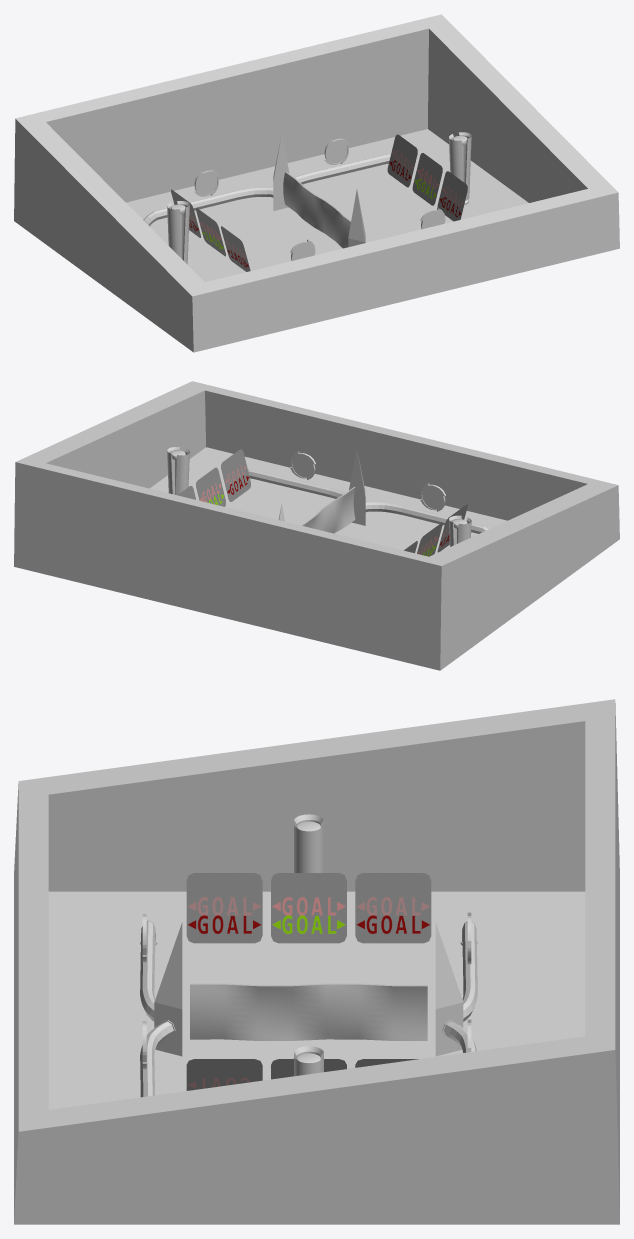
File: teleport_level_combined.fbx
3 renders of one model, top to bottom at view 1: azimuth 30°, elevation 25°; view 2: azimuth 150°, elevation 25°; view 3: azimuth 270°, elevation 25°, orthographic. The views are drawn at different scales.
Parts seen in each view (by area): view 1: teleport_walls, teleport_floor, teleport_net, teleport_power_cable, teleport_goal_screen, teleport_goal_screen001, teleport_generator_shell001, teleport_goal_screen002, teleport_generator_shell, teleport_goal_screen004, teleport_goal_screen003, teleport_warp (+1 smaller); view 2: teleport_walls, teleport_floor, teleport_power_cable, teleport_net, teleport_goal_screen002, teleport_generator_shell, teleport_goal_screen001, teleport_warp002, teleport_warp003, teleport_generator_shell001, teleport_goal_screen004; view 3: teleport_walls, teleport_floor, teleport_net, teleport_goal_screen003, teleport_goal_screen005, teleport_goal_screen004, teleport_power_cable, teleport_goal_screen002, teleport_generator_shell001.
Boxes of the visible parts, x1,y1,x2,y2 form: teleport_walls: [14, 14, 619, 352]; teleport_floor: [150, 133, 479, 281]; teleport_net: [283, 171, 350, 248]; teleport_power_cable: [143, 154, 390, 226]; teleport_goal_screen: [387, 134, 417, 187]; teleport_goal_screen001: [412, 153, 442, 205]; teleport_generator_shell001: [167, 201, 189, 264]; teleport_goal_screen002: [437, 171, 467, 221]; teleport_generator_shell: [449, 132, 471, 200]; teleport_goal_screen004: [196, 208, 225, 256]; teleport_goal_screen003: [221, 226, 250, 271]; teleport_warp: [194, 170, 219, 196]; teleport_walls: [14, 381, 619, 670]; teleport_floor: [198, 448, 474, 553]; teleport_power_cable: [248, 469, 488, 533]; teleport_net: [301, 487, 355, 533]; teleport_goal_screen002: [221, 449, 250, 501]; teleport_generator_shell: [167, 447, 189, 495]; teleport_goal_screen001: [196, 467, 225, 506]; teleport_warp002: [420, 483, 445, 511]; teleport_warp003: [290, 451, 315, 479]; teleport_generator_shell001: [449, 515, 471, 546]; teleport_goal_screen004: [417, 522, 442, 556]; teleport_walls: [14, 699, 619, 1224]; teleport_floor: [123, 922, 494, 1099]; teleport_net: [190, 983, 427, 1040]; teleport_goal_screen003: [186, 873, 262, 943]; teleport_goal_screen005: [355, 873, 431, 943]; teleport_goal_screen004: [271, 873, 346, 943]; teleport_power_cable: [140, 920, 477, 1097]; teleport_goal_screen002: [186, 1059, 262, 1090]; teleport_generator_shell001: [294, 814, 323, 872].
Bounding box in the file's own units: 1967 × 460 × 1436.
